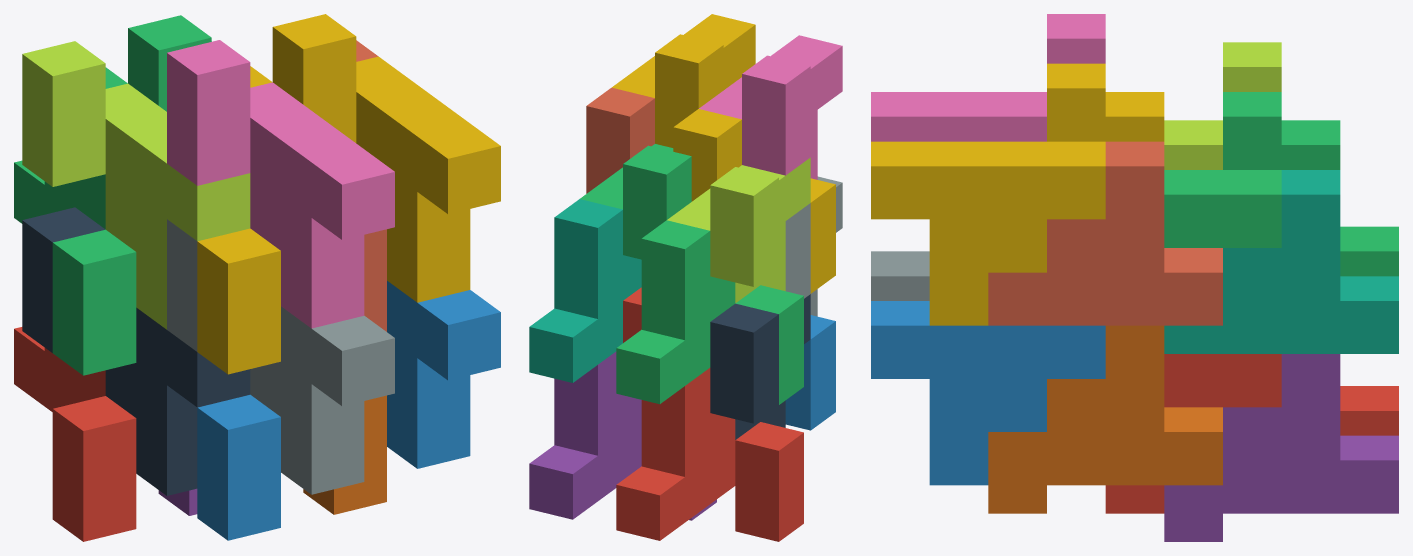
File: tiling.obj
3 renders of one model, left to right at view 1: azimuth 30°, elevation 25°; view 2: azimuth 150°, elevation 25°; view 3: azimuth 270°, elevation 25°, orthographic. The views are drawn at different scales.
Parts seen in each view (by area): view 1: copy_2_domain_4, copy_2_domain_8, copy_2_domain_3, copy_2_domain_2, copy_2_domain_1, copy_2_domain_6, copy_1_domain_1, copy_1_domain_3, copy_1_domain_4, copy_1_domain_2, copy_2_domain_7, copy_1_domain_6 (+2 smaller); view 2: copy_1_domain_1, copy_1_domain_3, copy_1_domain_7, copy_1_domain_5, copy_2_domain_4, copy_2_domain_3, copy_2_domain_8, copy_2_domain_1, copy_1_domain_4, copy_2_domain_7, copy_1_domain_8, copy_1_domain_2 (+2 smaller); view 3: copy_2_domain_8, copy_1_domain_6, copy_1_domain_8, copy_1_domain_5, copy_2_domain_6, copy_1_domain_7, copy_2_domain_7, copy_2_domain_4, copy_2_domain_5, copy_1_domain_3, copy_2_domain_3, copy_1_domain_4 (+2 smaller).
Part boxes in pixels (left/top/right/bottom): copy_2_domain_4: left=167, top=40, right=394, bottom=328; copy_2_domain_8: left=272, top=14, right=500, bottom=302; copy_2_domain_3: left=22, top=41, right=250, bottom=329; copy_2_domain_2: left=167, top=219, right=394, bottom=494; copy_2_domain_1: left=22, top=207, right=250, bottom=495; copy_2_domain_6: left=387, top=281, right=500, bottom=468; copy_1_domain_1: left=14, top=327, right=136, bottom=541; copy_1_domain_3: left=14, top=67, right=136, bottom=375; copy_1_domain_4: left=197, top=66, right=280, bottom=374; copy_1_domain_2: left=197, top=394, right=280, bottom=540; copy_2_domain_7: left=128, top=15, right=211, bottom=111; copy_1_domain_6: left=303, top=395, right=386, bottom=514; copy_1_domain_1: left=616, top=368, right=803, bottom=541; copy_1_domain_3: left=616, top=220, right=803, bottom=404; copy_1_domain_7: left=529, top=199, right=641, bottom=382; copy_1_domain_5: left=529, top=351, right=716, bottom=520; copy_2_domain_4: left=699, top=35, right=842, bottom=179; copy_2_domain_3: left=667, top=157, right=810, bottom=303; copy_2_domain_8: left=612, top=14, right=755, bottom=147; copy_2_domain_1: left=710, top=294, right=810, bottom=439; copy_1_domain_4: left=673, top=109, right=835, bottom=293; copy_2_domain_7: left=580, top=144, right=691, bottom=259; copy_1_domain_8: left=586, top=87, right=654, bottom=193; copy_1_domain_2: left=785, top=315, right=835, bottom=430; copy_2_domain_8: left=871, top=63, right=1105, bottom=325; copy_1_domain_6: left=988, top=325, right=1222, bottom=513; copy_1_domain_8: left=988, top=141, right=1222, bottom=325; copy_1_domain_5: left=1164, top=354, right=1398, bottom=541; copy_2_domain_6: left=871, top=301, right=1105, bottom=485; copy_1_domain_7: left=1164, top=170, right=1398, bottom=353; copy_2_domain_7: left=1164, top=92, right=1281, bottom=247; copy_2_domain_4: left=871, top=14, right=1105, bottom=141; copy_2_domain_5: left=1105, top=354, right=1281, bottom=513; copy_1_domain_3: left=1281, top=120, right=1398, bottom=276; copy_2_domain_3: left=1164, top=42, right=1281, bottom=169; copy_1_domain_4: left=1105, top=92, right=1164, bottom=141.
Bounding box in the file's own units: 5 × 9 × 9.
